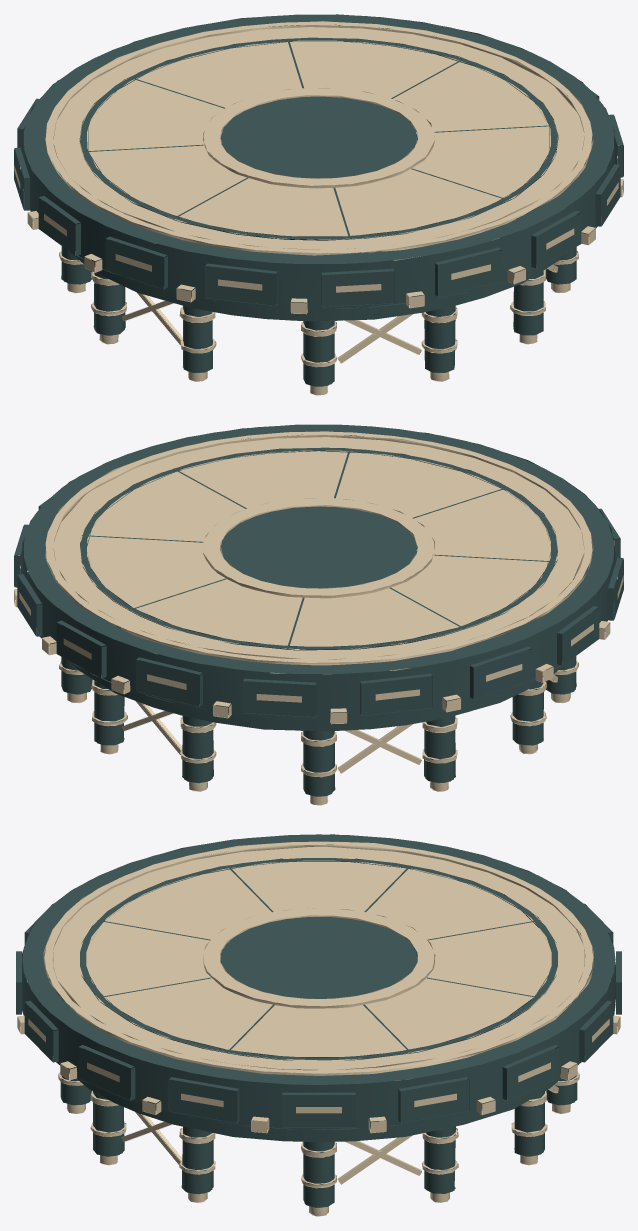
File: Platform_Standard_lab2.glb
3 renders of one model, top to bottom at view 1: azimuth 30°, elevation 25°; view 2: azimuth 150°, elevation 25°; view 3: azimuth 270°, elevation 25°, orthographic.
Visible parts, largest first — view 1: Platform_Standard; view 2: Platform_Standard; view 3: Platform_Standard.
Boxes of the visible parts, x1,y1,x2,y2 form: Platform_Standard: (14,14,623,395); Platform_Standard: (14,424,623,805); Platform_Standard: (16,834,621,1216).
Size of the model in its own units: 12.32 by 3.67 by 12.32.
